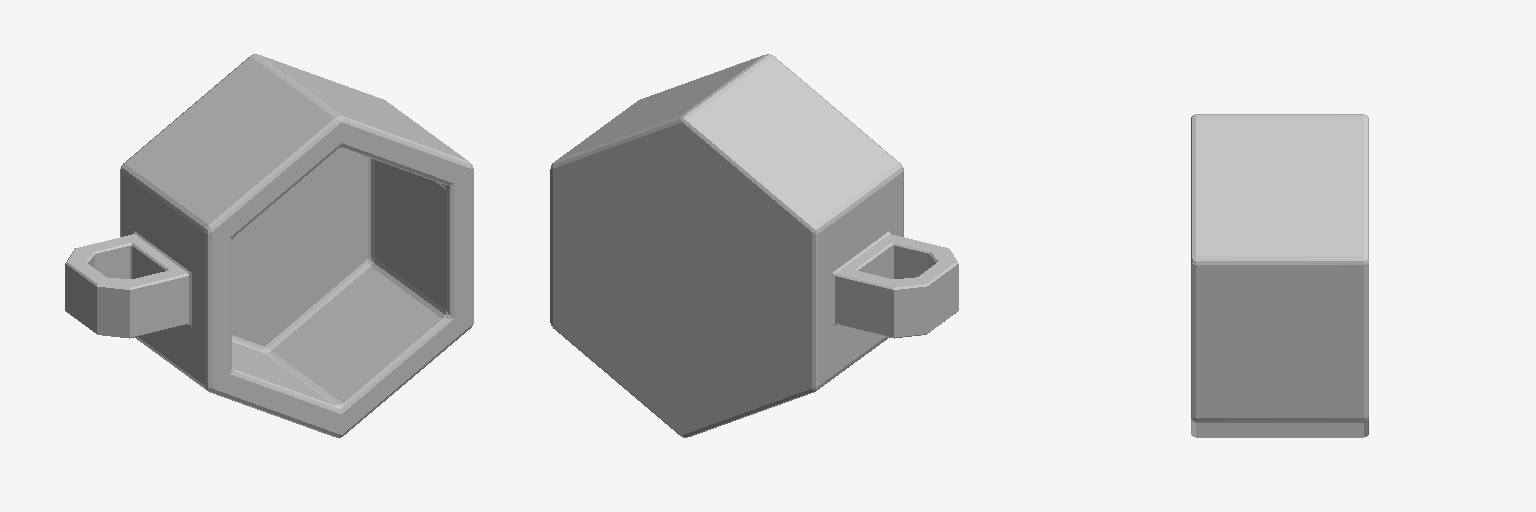
File: cup2.obj
The picture shows the model from 3 angles: view 1: azimuth 30°, elevation 25°; view 2: azimuth 150°, elevation 25°; view 3: azimuth 270°, elevation 25°; orthographic projection.
Visible parts, largest first — view 1: cup2; view 2: cup2; view 3: cup2.
Boxes of the visible parts, box(x1,y1,x2,y2) form: cup2: box(65, 54, 473, 437); cup2: box(550, 54, 958, 437); cup2: box(1191, 114, 1368, 437).
Bounding box in the file's own units: 2.26 × 1.98 × 1.